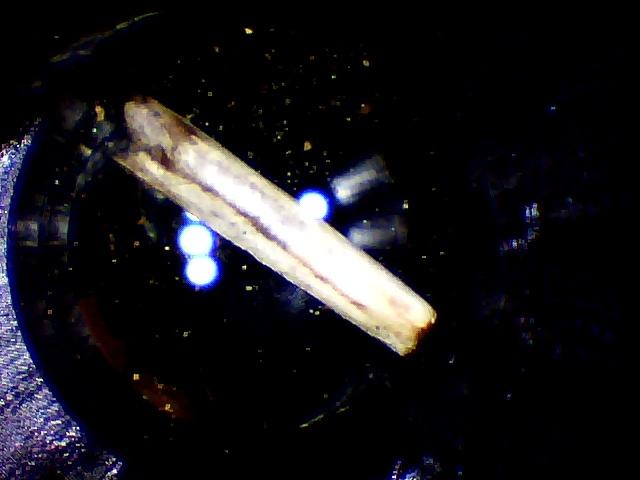megot: (77, 88, 446, 366)
